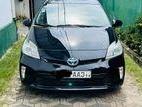car: (20, 0, 124, 96)
